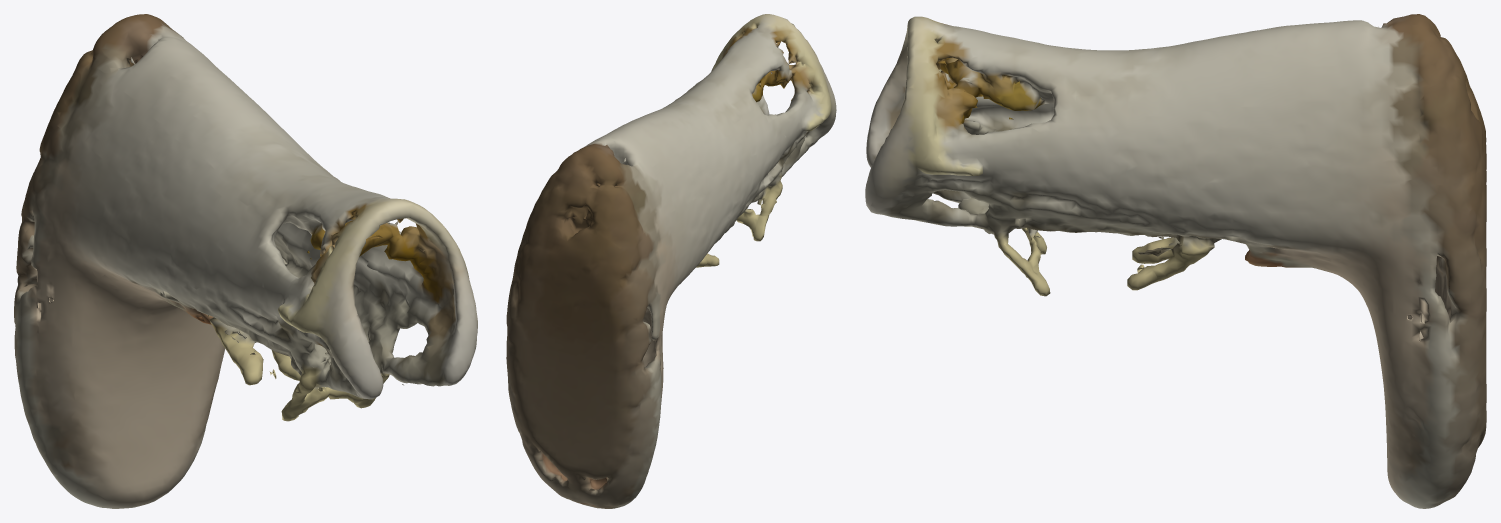
Rendered from shoe1.glb.
3 renders of one model, left to right at view 1: azimuth 30°, elevation 25°; view 2: azimuth 150°, elevation 25°; view 3: azimuth 270°, elevation 25°, orthographic. The views are drawn at different scales.
Size of the model in its own units: 0.377 by 0.8575 by 0.9999.
